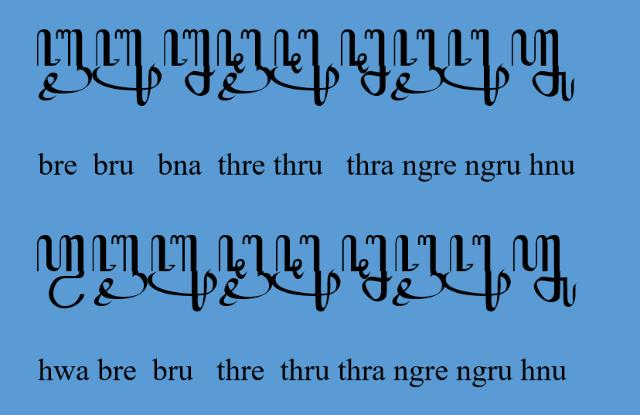bn: (162, 29, 215, 96)
bre: (92, 234, 148, 308), (36, 28, 92, 100)
bru: (90, 29, 162, 108), (146, 235, 218, 313)
hnu: (512, 234, 578, 308), (511, 29, 575, 102)
hw: (36, 234, 86, 310)
ngre: (390, 29, 444, 102), (392, 234, 446, 306)
ngru: (442, 234, 512, 312), (442, 28, 511, 106)
thn: (341, 28, 392, 96), (342, 234, 393, 302)
thre: (216, 29, 272, 101), (219, 234, 273, 306)
thru: (270, 29, 340, 108), (271, 234, 341, 312)
